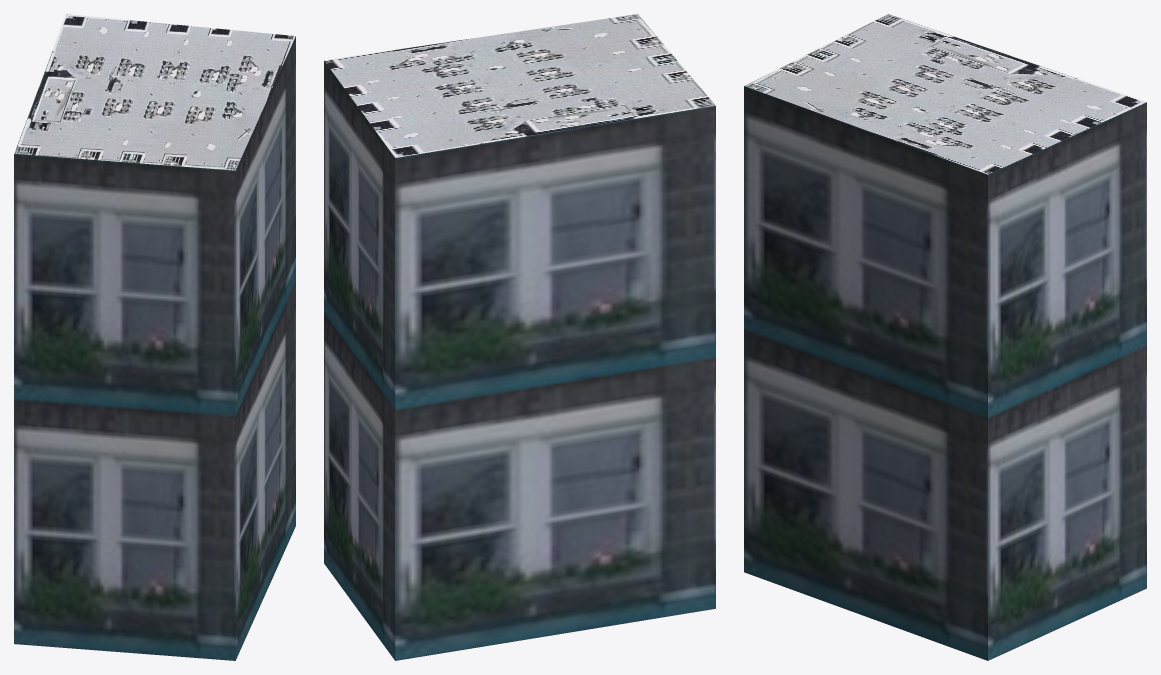
The model's file is ResTex__841.fbx.
3 views of the same model, side by side, from view 1: azimuth 30°, elevation 25°; view 2: azimuth 150°, elevation 25°; view 3: azimuth 270°, elevation 25° (orthographic). The views are drawn at different scales.
Visible parts, largest first — view 1: CityEngineMaterial_11_m, CityEngineMaterial_m; view 2: CityEngineMaterial_11_m, CityEngineMaterial_m; view 3: CityEngineMaterial_11_m, CityEngineMaterial_m.
Boxes of the visible parts, x1,y1,x2,y2 form: CityEngineMaterial_11_m: (14,36,295,660); CityEngineMaterial_m: (14,14,295,170); CityEngineMaterial_11_m: (324,61,715,660); CityEngineMaterial_m: (324,14,715,157); CityEngineMaterial_11_m: (744,86,1146,660); CityEngineMaterial_m: (745,14,1146,174).
Size of the model in its own units: 4.25 by 6 by 4.5.
Materials: 2 (2 with a texture image).
